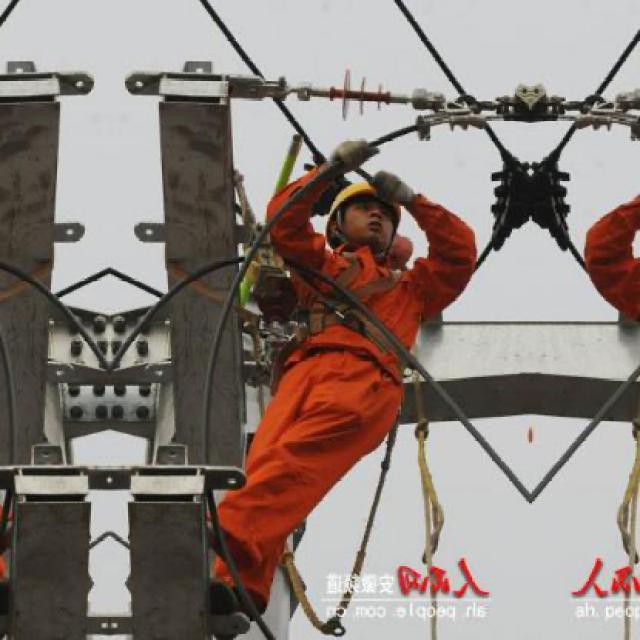helmet: (308, 168, 412, 255)
